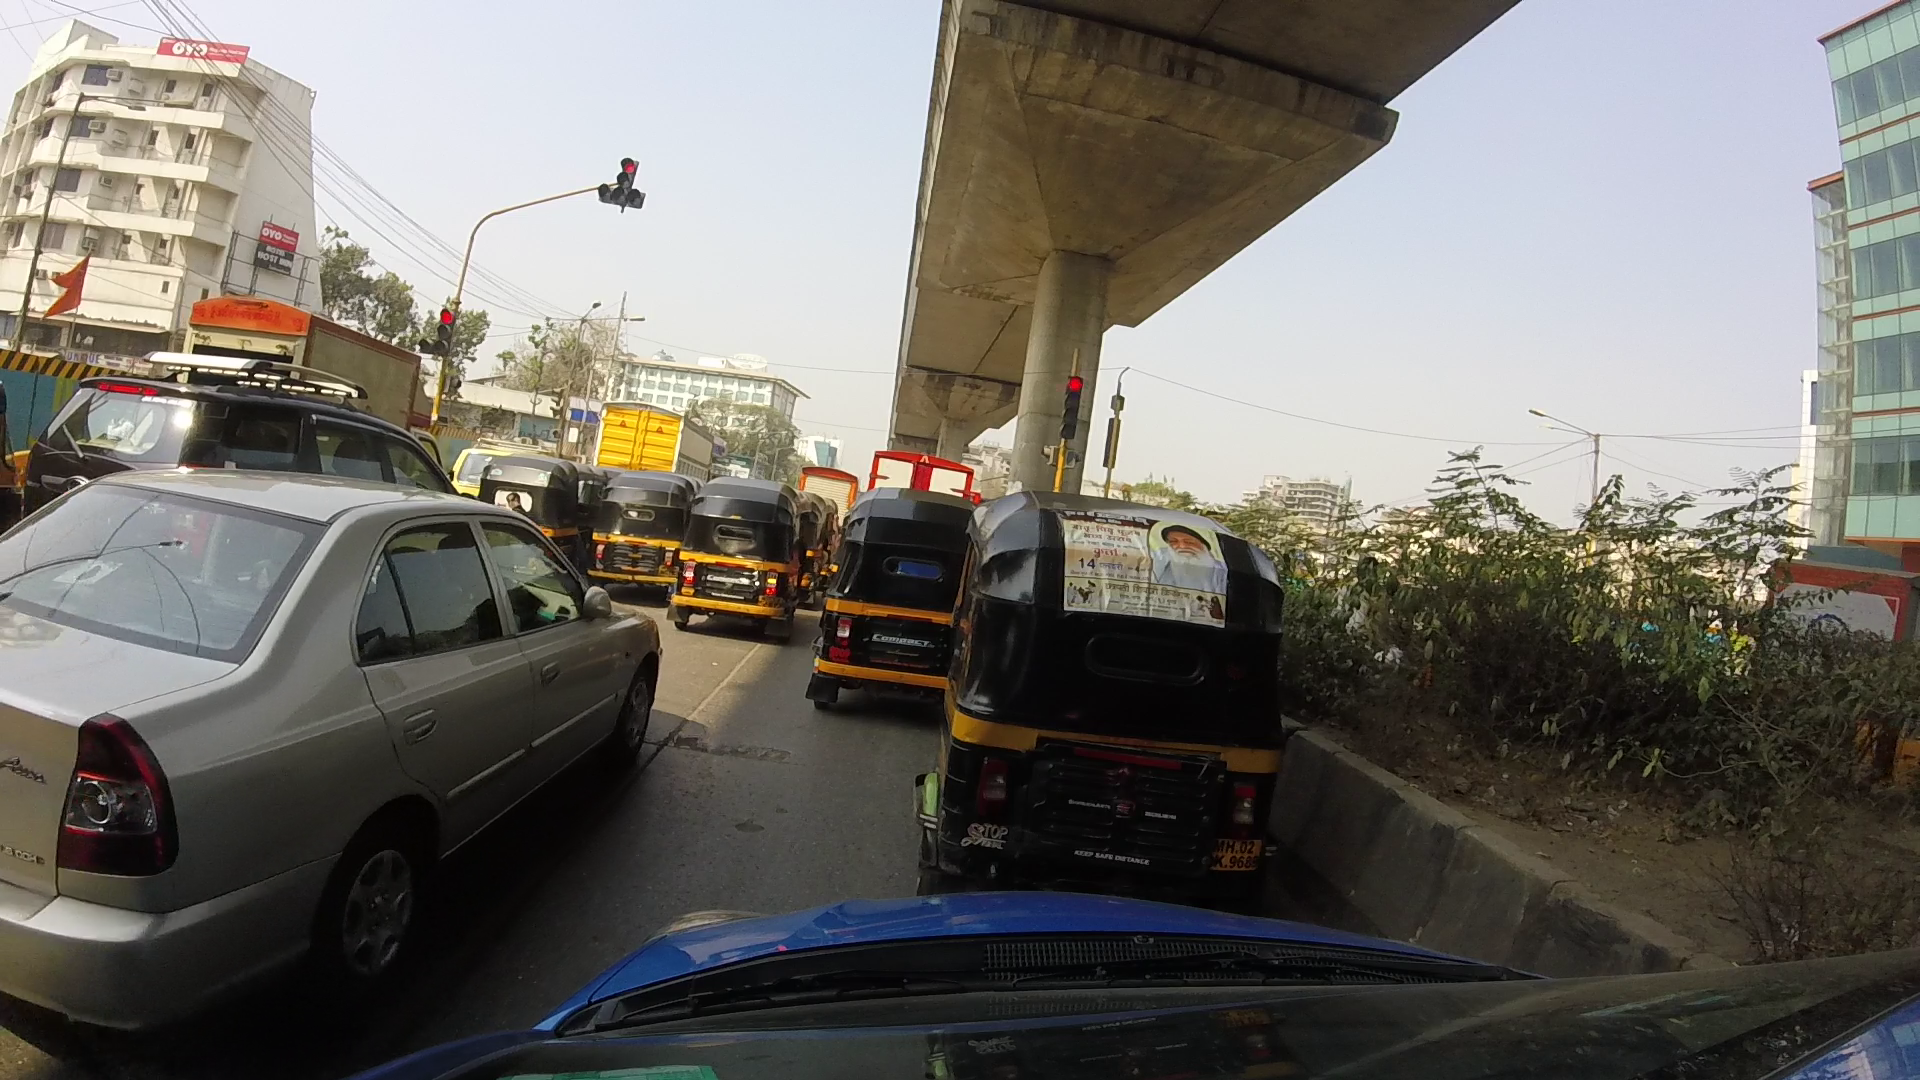car: (4, 458, 665, 1025), (17, 349, 479, 524)
rickshaw: (926, 500, 1294, 895), (814, 477, 972, 707), (674, 465, 810, 637), (582, 464, 698, 597), (473, 434, 597, 555)
